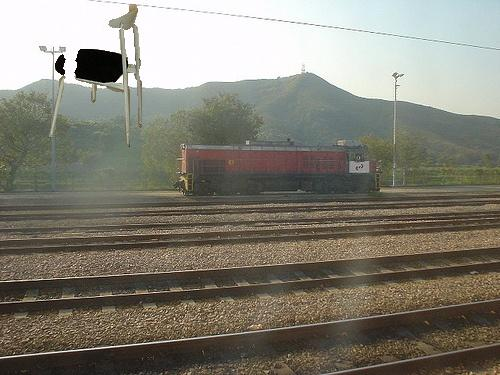tampered: (50, 5, 142, 148)
